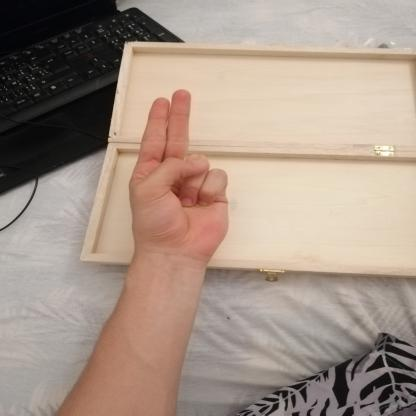TA: (113, 80, 248, 274)
